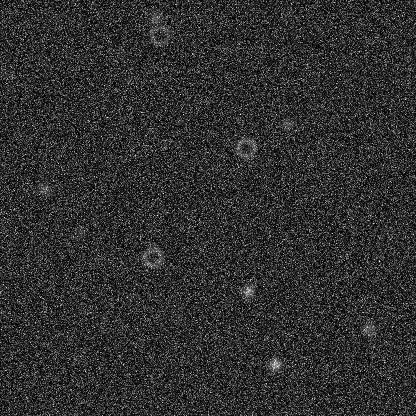Ring: (140, 245, 164, 269), (147, 23, 171, 47), (233, 135, 257, 159)
Spot: (71, 226, 87, 242), (267, 356, 283, 372), (279, 115, 295, 131), (147, 8, 163, 24), (240, 283, 256, 299), (122, 289, 138, 305), (361, 320, 377, 336), (36, 181, 52, 197)
